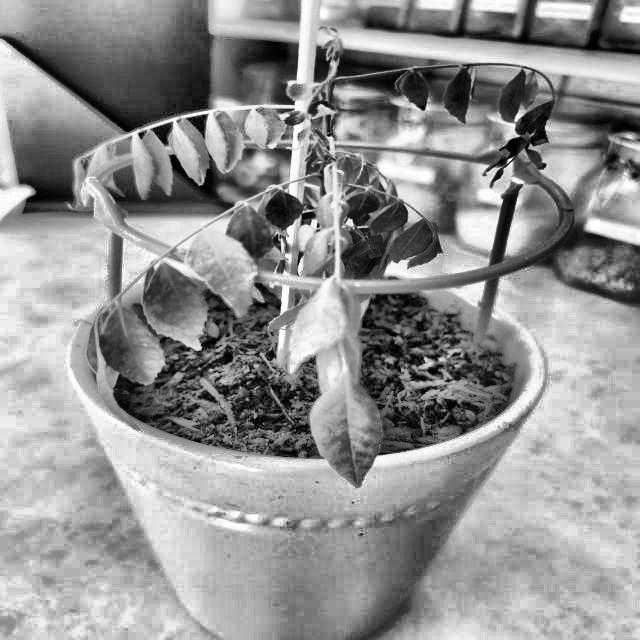plants: (36, 29, 594, 491)
